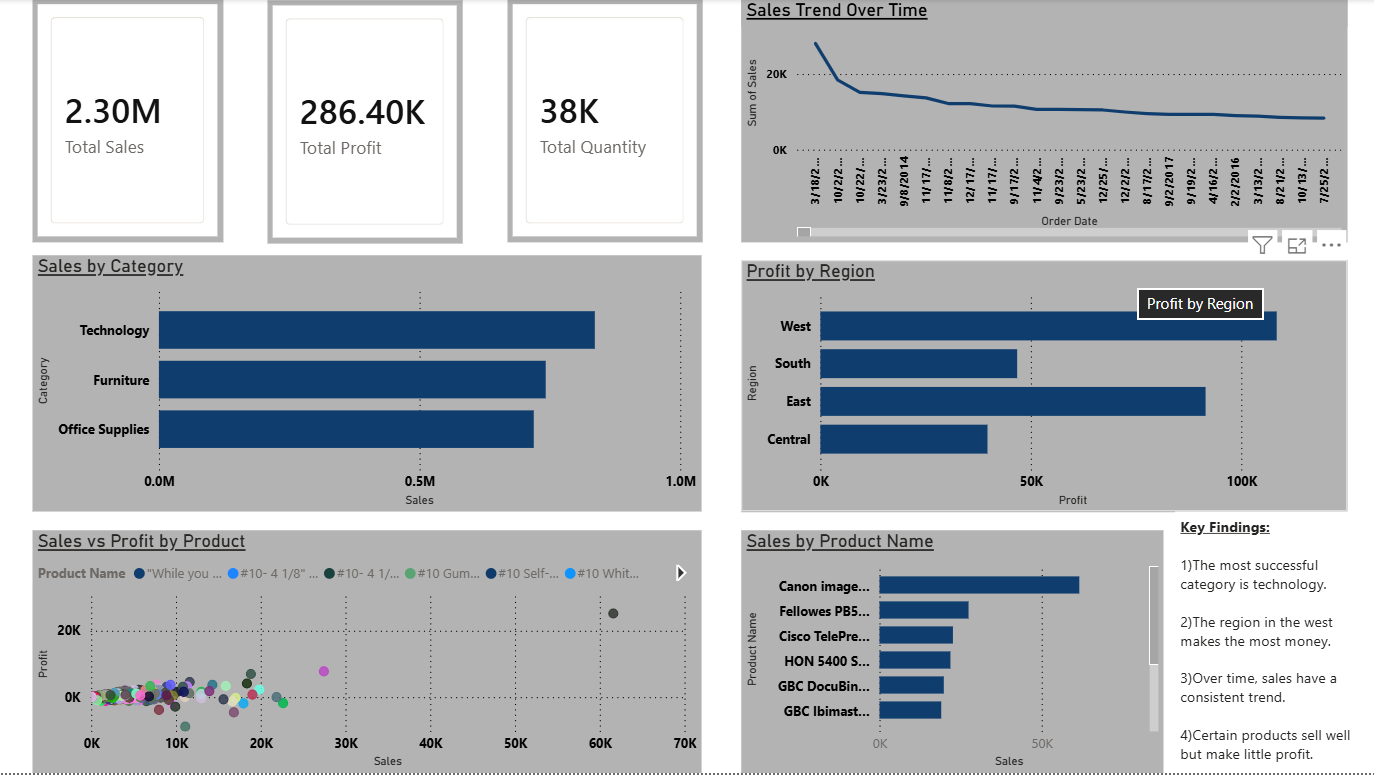

What the dashboard file says about the page in this screenshot:
{"tool":"powerbi","page":{"name":"Page 1","canvas":[1280,720],"ordinal":0},"visuals":[{"type":"cardVisual","fields":{"Data":["Sum(Sample - Superstore.Sales)"]},"box":[30.7,0,177.3,226.1],"z":0},{"type":"cardVisual","fields":{"Data":["Sum(Sample - Superstore.Profit)"]},"box":[248.9,1.1,181.8,226.1],"z":1000},{"type":"cardVisual","fields":{"Data":["Sum(Sample - Superstore.Quantity)"]},"box":[471.6,0,181.8,226.1],"z":2000},{"type":"lineChart","title":"Sales Trend Over Time","fields":{"Category":["Sample - Superstore.Order Date"],"Y":["Sum(Sample - Superstore.Sales)"]},"box":[689.8,0,563.6,226.1],"z":3000},{"type":"clusteredBarChart","fields":{"Category":["Sample - Superstore.Category"],"Y":["Sum(Sample - Superstore.Sales)"]},"box":[30.7,238.6,622.7,238.6],"z":4000},{"type":"clusteredBarChart","fields":{"Category":["Sample - Superstore.Region"],"Y":["Sum(Sample - Superstore.Profit)"]},"box":[689.8,243.2,563.6,234.1],"z":5000},{"type":"clusteredBarChart","fields":{"Category":["Sample - Superstore.Product Name"],"Y":["Sum(Sample - Superstore.Sales)"]},"box":[689.8,494.3,393.2,226.1],"z":6000},{"type":"scatterChart","title":"Sales vs Profit by Product","fields":{"X":["Sum(Sample - Superstore.Sales)"],"Y":["Sum(Sample - Superstore.Profit)"],"Series":["Sample - Superstore.Product Name"]},"box":[30.7,494.3,622.7,226.1],"z":7000},{"type":"textbox","box":[1093.2,477.3,186.4,243.2],"z":7001}]}

Visuals, with their boxes in screenshot pixels (x1, y1, x2, y2), scaled from the page's 1280x720 canvas onto the 1374x776 screenshot:
cardVisual - Sum(Sample - Superstore.Sales): locate(33, 0, 223, 244)
cardVisual - Sum(Sample - Superstore.Profit): locate(267, 1, 462, 245)
cardVisual - Sum(Sample - Superstore.Quantity): locate(506, 0, 701, 244)
"Sales Trend Over Time" lineChart: locate(740, 0, 1345, 244)
clusteredBarChart - Sample - Superstore.Category x Sum(Sample - Superstore.Sales): locate(33, 257, 701, 514)
clusteredBarChart - Sample - Superstore.Region x Sum(Sample - Superstore.Profit): locate(740, 262, 1345, 514)
clusteredBarChart - Sample - Superstore.Product Name x Sum(Sample - Superstore.Sales): locate(740, 533, 1163, 775)
"Sales vs Profit by Product" scatterChart: locate(33, 533, 701, 775)
textbox: locate(1173, 514, 1373, 775)
